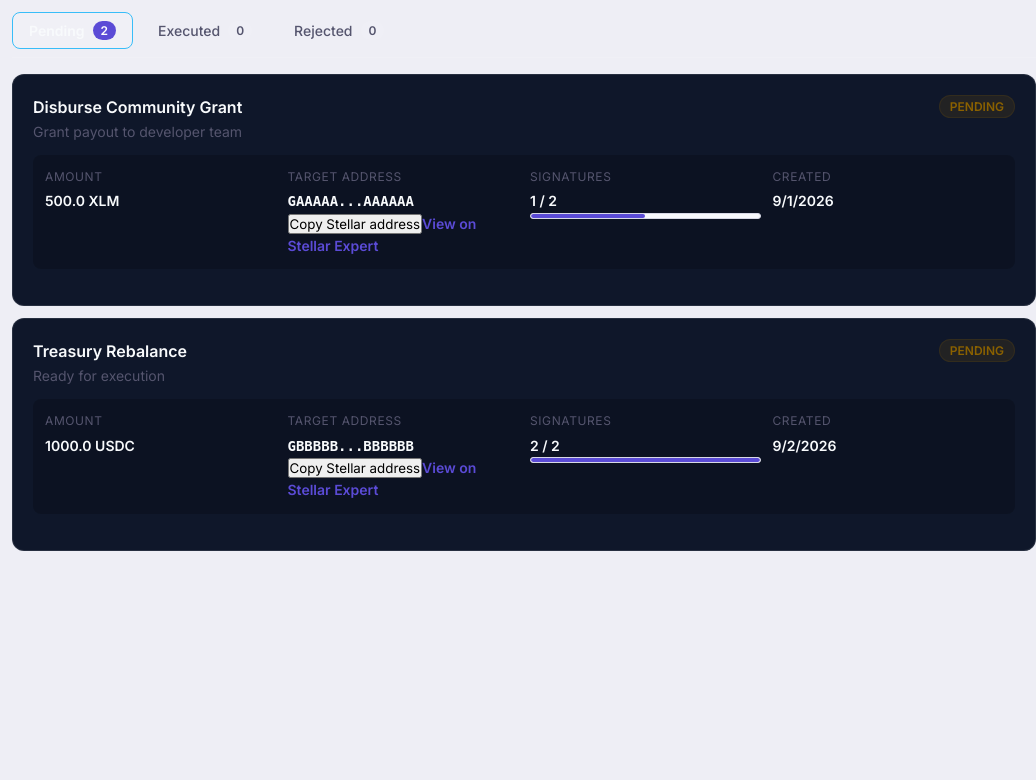
Test: MultiSigProposalList › renders empty state when no proposals match active tab
This screenshot has width=1036, height=780.
Click the tab with test id "tab-executed" at {"x": 205, "y": 30}, box [141,12,269,49]
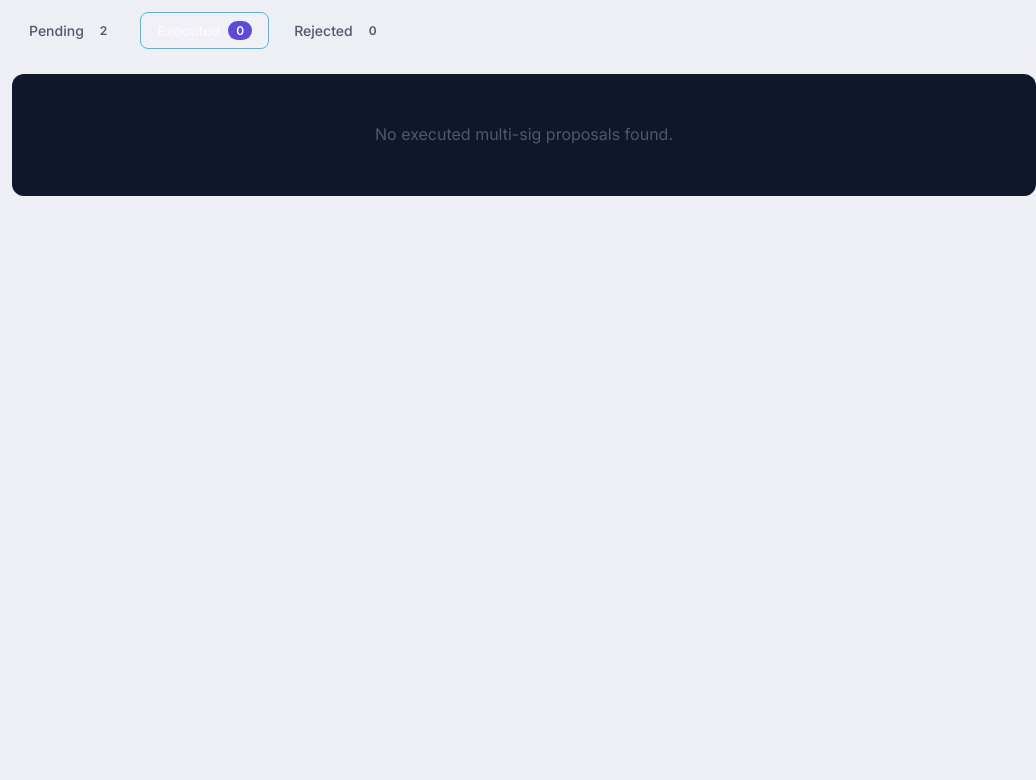
Now the element with test id "empty-state" reads "No executed multi-sig proposals found.", box [12,74,1035,196]
